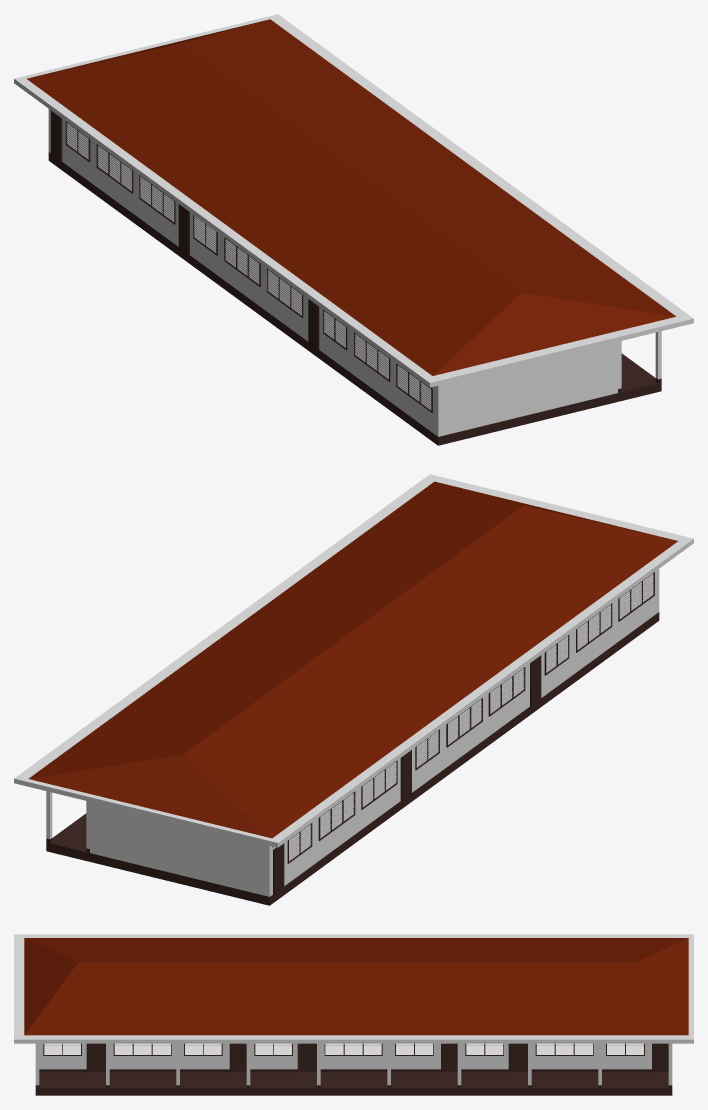
Rendered from Road_Building.glb.
The picture shows the model from 3 angles, top to bottom: view 1: azimuth 30°, elevation 25°; view 2: azimuth 150°, elevation 25°; view 3: azimuth 270°, elevation 25°; orthographic projection. The views are drawn at different scales.
Visible parts, largest first — view 1: Plane, roof, wall.010, wall.011; view 2: Plane, roof, wall.010, wall.011; view 3: Plane, wall.011, wall.010, roof, pilla, frame_window.005, frame_window.003, frame_window.007, Cube.007, Cube.001, Cube.005, Cube.004 (+8 smaller).
Part boxes in pixels (box(x1,y1,x2,y2)): Plane: box(26, 19, 675, 375); roof: box(48, 109, 617, 436); wall.010: box(14, 14, 693, 387); wall.011: box(48, 152, 661, 445); Plane: box(28, 481, 677, 838); roof: box(90, 569, 659, 896); wall.010: box(14, 474, 693, 847); wall.011: box(46, 612, 659, 905); Plane: box(24, 938, 688, 1035); wall.011: box(35, 1043, 672, 1095); wall.010: box(14, 934, 693, 1043); roof: box(39, 1043, 651, 1072); pilla: box(35, 1043, 672, 1088); frame_window.005: box(325, 1043, 381, 1054); frame_window.003: box(114, 1043, 170, 1054); frame_window.007: box(536, 1043, 592, 1054); Cube.007: box(509, 1043, 527, 1071); Cube.001: box(87, 1043, 104, 1071); Cube.005: box(299, 1043, 315, 1071); Cube.004: box(230, 1043, 245, 1071).
Size of the model in its own units: 14.1 by 5.48 by 38.47.
